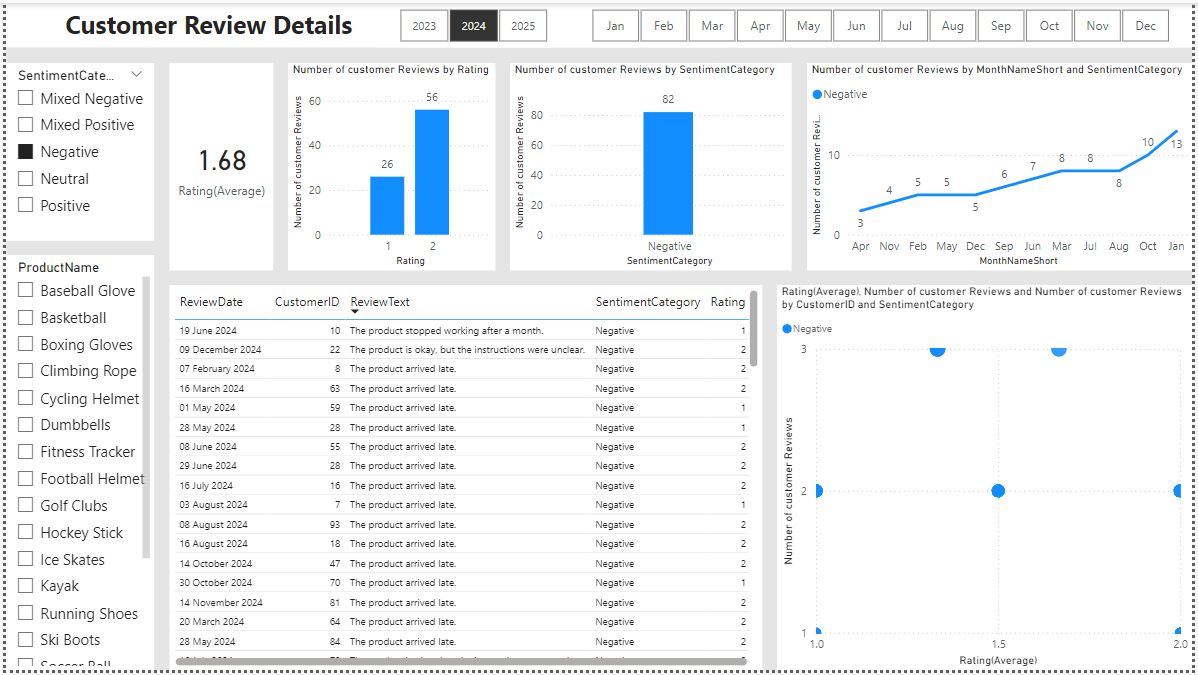

Layout of this report page (visuals, bound fields, positions):
{"tool":"powerbi","page":{"name":"Customer Review Details","canvas":[1280,720],"ordinal":3},"visuals":[{"type":"textbox","box":[0,0,1632,48],"z":0},{"type":"slicer","fields":{"Values":["dim_products.ProductName"]},"box":[0,272,160,448],"z":1000},{"type":"slicer","fields":{"Values":["Calendar.Year"]},"box":[400,0,208,48],"z":2000},{"type":"slicer","fields":{"Values":["Calendar.MonthNameShort"]},"box":[608,0,672,48],"z":3000},{"type":"card","fields":{"Values":["Calculations.Rating(Average)"]},"box":[176,64,112,224],"z":4000},{"type":"columnChart","fields":{"Y":["Calculations.Number of customer Reviews"],"Category":["fact_customer_review_with_sentiment.Rating"]},"box":[304,64,224,224],"z":5000},{"type":"columnChart","fields":{"Y":["Calculations.Number of customer Reviews"],"Category":["fact_customer_review_with_sentiment.SentimentCategory"]},"box":[544,64,304,224],"z":6000},{"type":"lineChart","fields":{"Y":["Calculations.Number of customer Reviews"],"Series":["fact_customer_review_with_sentiment.SentimentCategory"],"Category":["Calendar.MonthNameShort"]},"box":[864,64,416,224],"z":7000},{"type":"tableEx","fields":{"Values":["fact_customer_review_with_sentiment.ReviewDate","fact_customer_review_with_sentiment.CustomerID","fact_customer_review_with_sentiment.ReviewText","fact_customer_review_with_sentiment.SentimentCategory","fact_customer_review_with_sentiment.Rating"]},"box":[176,304,640,416],"z":8000},{"type":"scatterChart","fields":{"X":["Calculations.Rating(Average)"],"Y":["Calculations.Number of customer Reviews"],"Category":["dim_customers.CustomerID"],"Series":["fact_customer_review_with_sentiment.SentimentCategory"],"Size":["Calculations.Number of customer Reviews"]},"box":[832,304,448,416],"z":9000},{"type":"slicer","fields":{"Values":["fact_customer_review_with_sentiment.SentimentCategory"]},"box":[0,64,160,192],"z":10000}]}

Visuals, with their boxes in screenshot pixels (x1, y1, x2, y2), scaled from the page's 1280x720 canvas onto the 1198x675 screenshot:
textbox: 0, 0, 1197, 45
slicer - dim_products.ProductName: 0, 255, 150, 674
slicer - Calendar.Year: 374, 0, 569, 45
slicer - Calendar.MonthNameShort: 569, 0, 1197, 45
card - Calculations.Rating(Average): 165, 60, 270, 270
columnChart - Calculations.Number of customer Reviews x fact_customer_review_with_sentiment.Rating: 285, 60, 494, 270
columnChart - Calculations.Number of customer Reviews x fact_customer_review_with_sentiment.SentimentCategory: 509, 60, 794, 270
lineChart - Calculations.Number of customer Reviews x fact_customer_review_with_sentiment.SentimentCategory: 809, 60, 1197, 270
tableEx - fact_customer_review_with_sentiment.ReviewDate x fact_customer_review_with_sentiment.CustomerID: 165, 285, 764, 674
scatterChart - Calculations.Rating(Average) x Calculations.Number of customer Reviews: 779, 285, 1197, 674
slicer - fact_customer_review_with_sentiment.SentimentCategory: 0, 60, 150, 240
